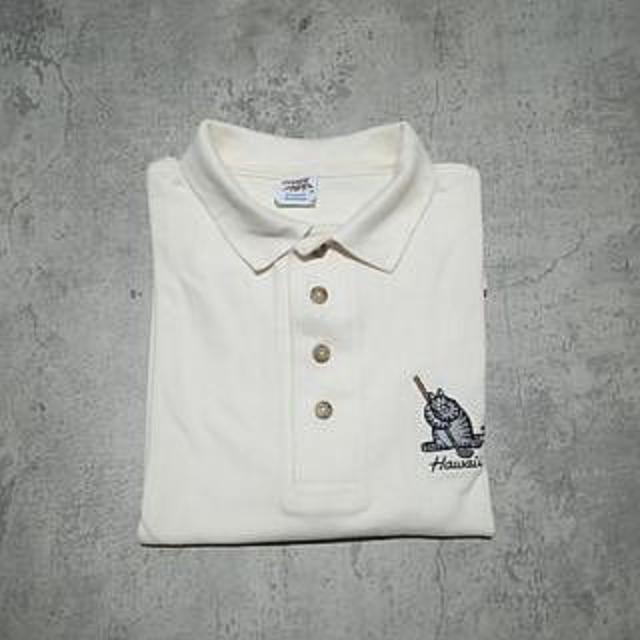SHIRT: (126, 115, 518, 561)
